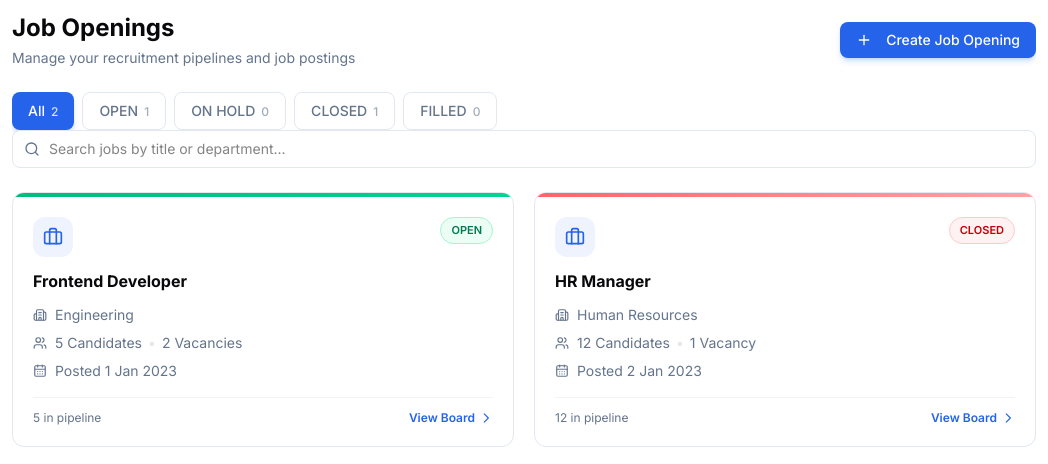
Scenario: Job Openings Page › should filter jobs by search query locally
The width and height of the screenshot is (1048, 464).
Expected: the heading "Frontend Developer" is shown, [33,271,187,291]
Expected: the heading "HR Manager" is shown, [555,271,651,291]
Type "HR" into the field with placeholder "Search jobs by title or department...". click: (524, 149)
box: [12,130,1036,168]
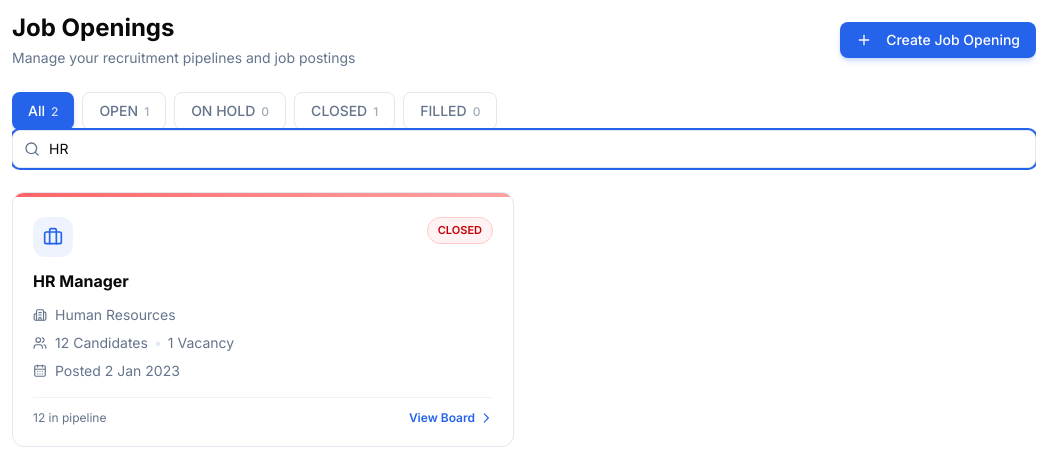
Expected: the heading "HR Manager" is shown, [33,271,129,291]
Expected: the link "Frontend Developer" is gone
